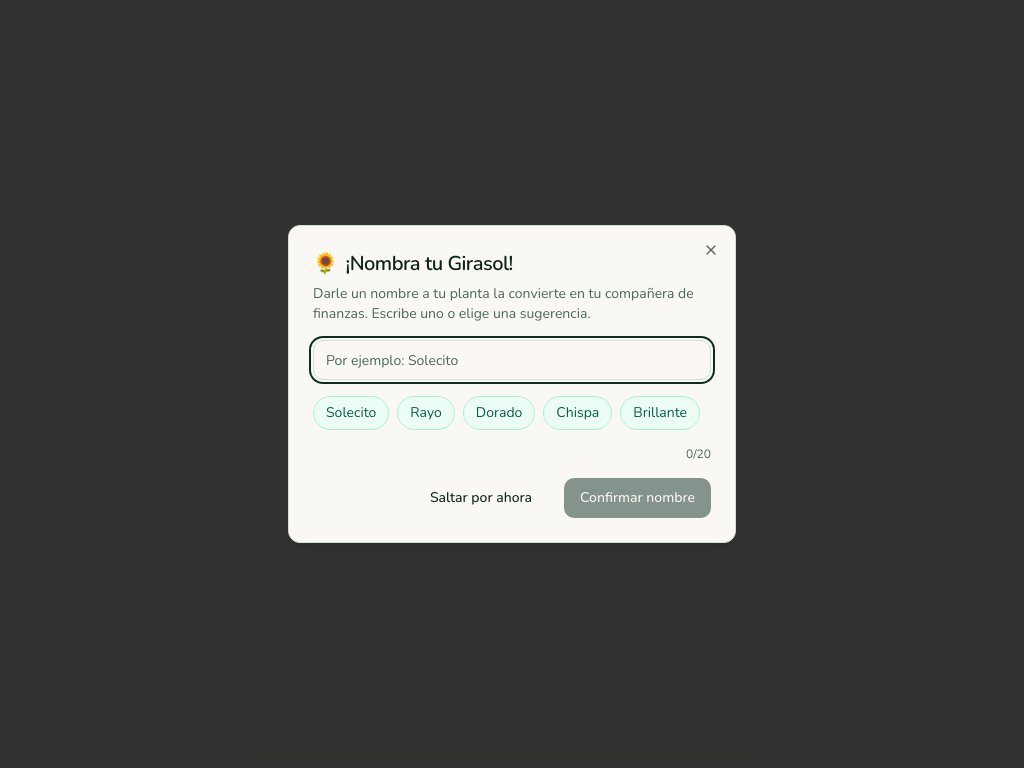
Test: NameYourPlant — confirm button state › confirm button becomes disabled again if user clears the input
The image size is (1024, 768).
Type "Sol" into the field. click: (512, 360)
box: left=313, top=340, right=711, bottom=380
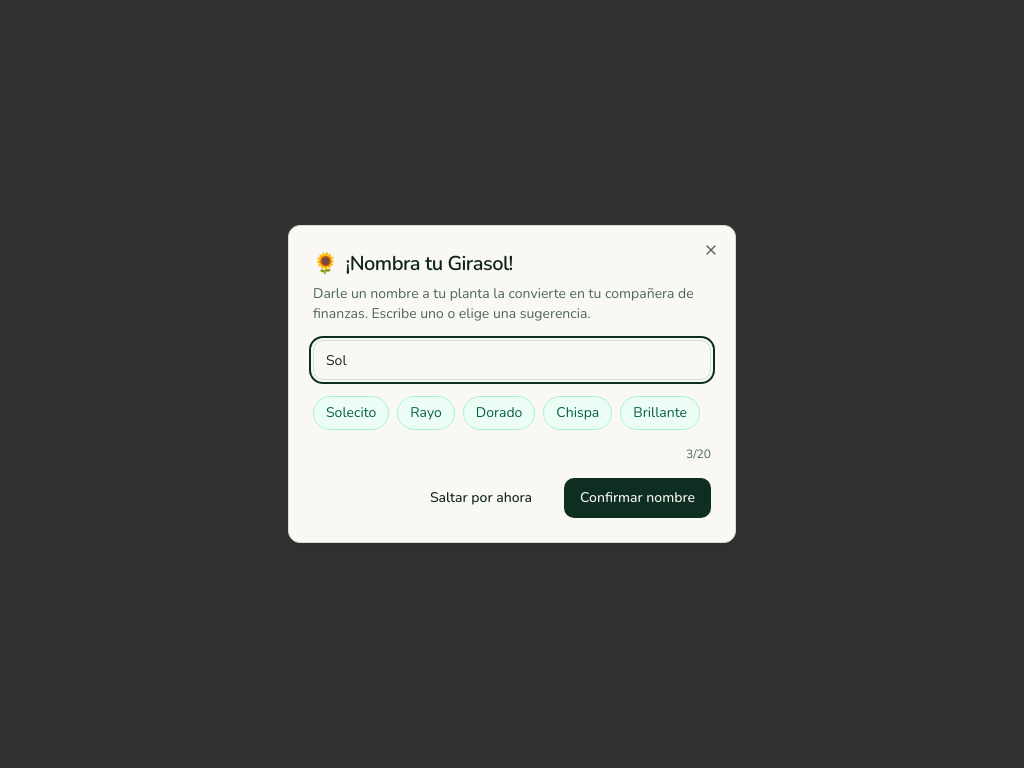
Clear the field. click: (512, 360)
box: left=313, top=340, right=711, bottom=380
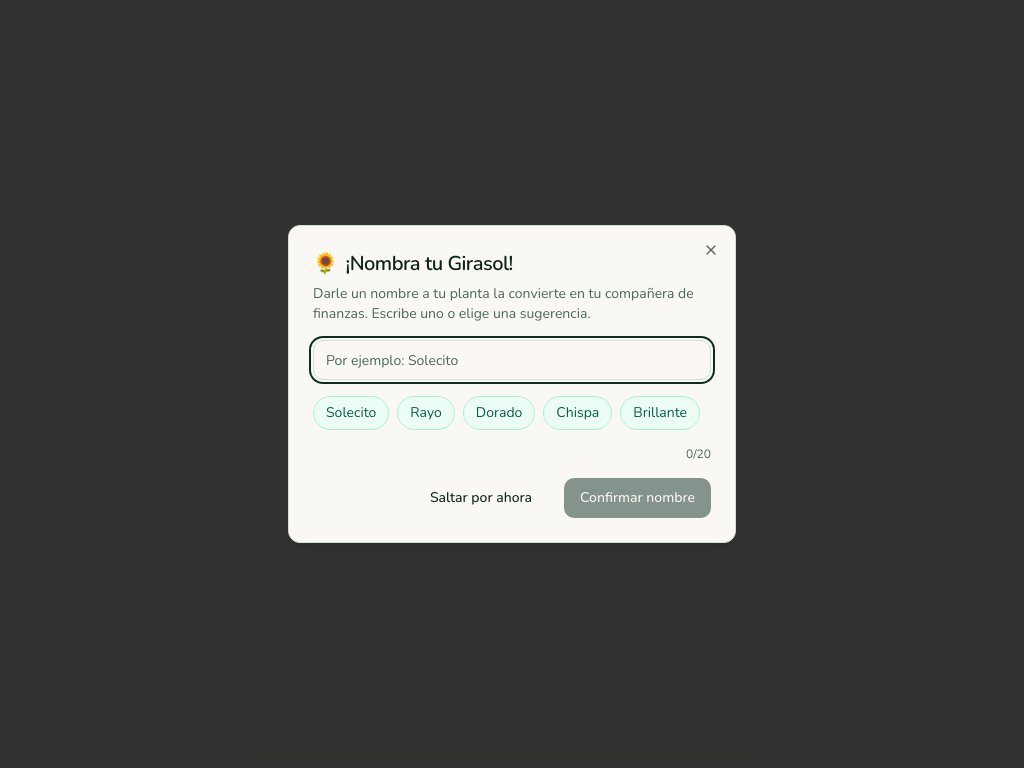
Expected: the button "Confirmar nombre" is disabled, left=564, top=478, right=711, bottom=518
